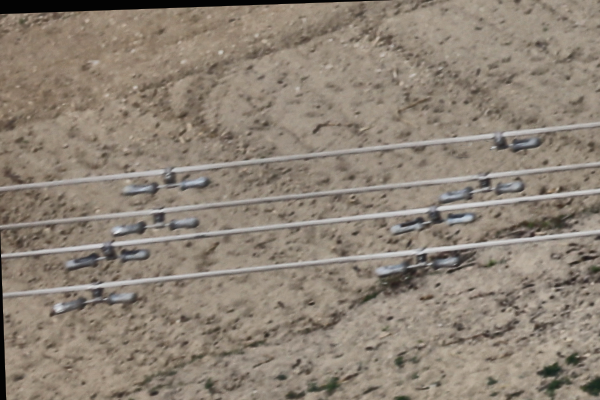damper: (50, 279, 139, 317), (436, 168, 527, 204), (374, 242, 462, 279), (108, 202, 200, 237), (118, 162, 210, 196), (388, 203, 477, 238), (61, 238, 151, 272)
damper_defect: (487, 127, 545, 155)
